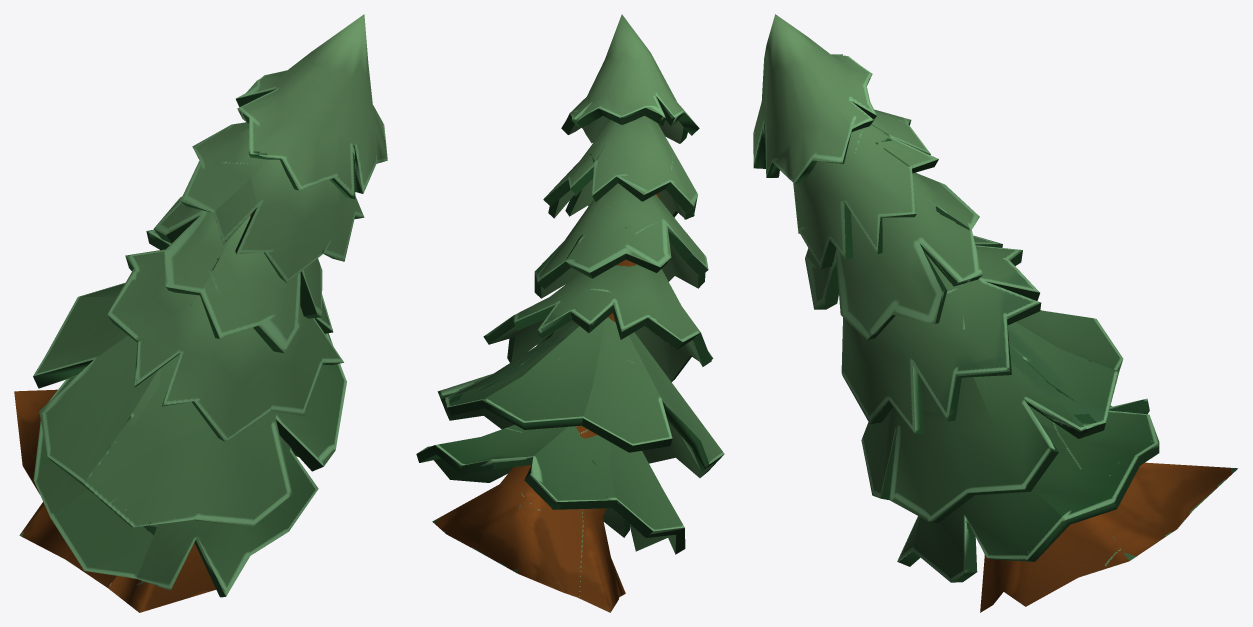
The model's file is tree_to_paint.fbx.
3 renders of one model, left to right at view 1: azimuth 30°, elevation 25°; view 2: azimuth 150°, elevation 25°; view 3: azimuth 270°, elevation 25°, orthographic. The views are drawn at different scales.
Parts seen in each view (by area): view 1: Tree.001; view 2: Tree.001; view 3: Tree.001.
Part boxes in pixels (<box>): Tree.001: <box>14,14,387,612</box>; Tree.001: <box>416,14,724,612</box>; Tree.001: <box>753,14,1237,612</box>.
Size of the model in its own units: 903 by 1765 by 1252.
1 material, 1 textured.
